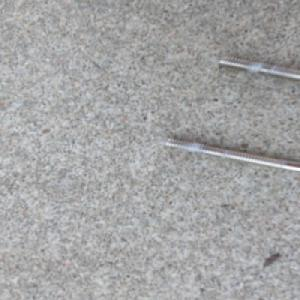ClampPart: (161, 53, 300, 174)
